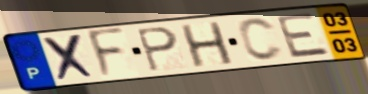C: (236, 16, 286, 62)
E: (273, 11, 334, 60)
F: (85, 25, 128, 82)
H: (178, 20, 237, 69)
P: (133, 25, 181, 74)
X: (40, 32, 99, 83)
